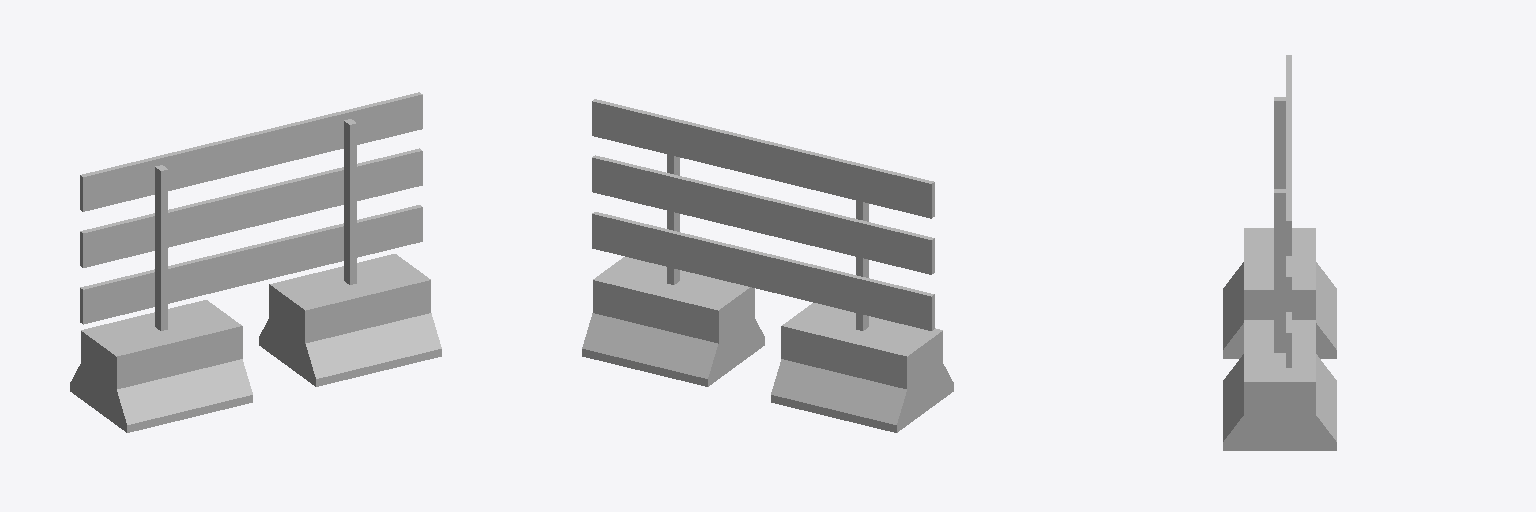
Rendered from road_block.obj.
3 renders of one model, left to right at view 1: azimuth 30°, elevation 25°; view 2: azimuth 150°, elevation 25°; view 3: azimuth 270°, elevation 25°, orthographic.
Visible parts, largest first — view 1: Cube; view 2: Cube; view 3: Cube.
Part boxes in pixels (x1,y1,x2,y2): Cube: (70, 92, 441, 432); Cube: (582, 99, 953, 432); Cube: (1223, 55, 1336, 450).
Size of the model in its own units: 3.79 by 2.51 by 1.11.